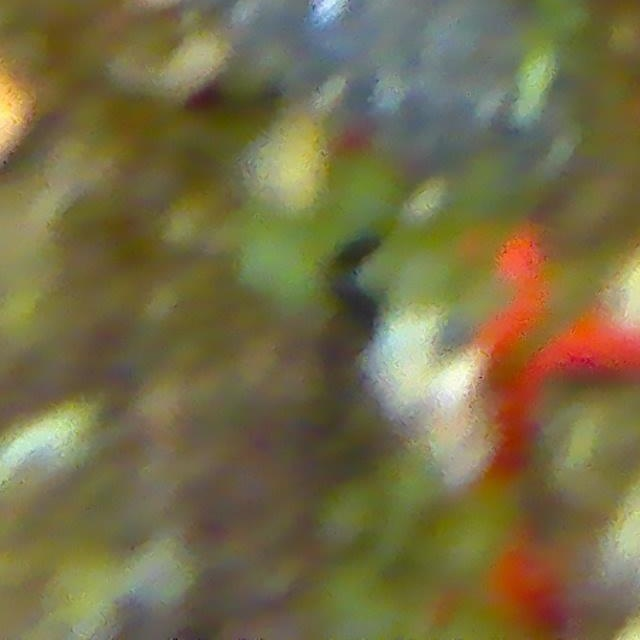SeaGrape: (423, 494, 514, 587), (328, 152, 411, 236), (0, 26, 53, 82)
